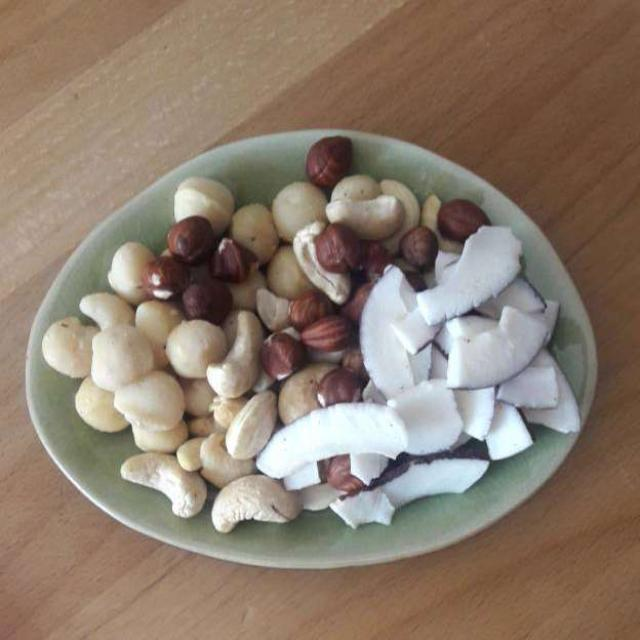coconut: (244, 237, 567, 528)
mixed-nuts: (52, 142, 494, 562)
